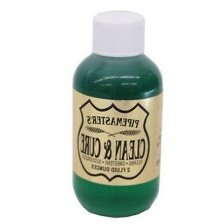cleaning_solution: (67, 8, 166, 221)
